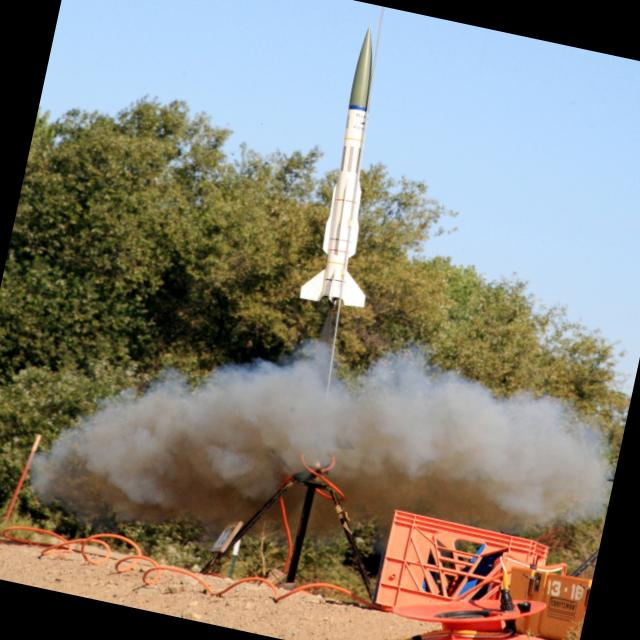rocket: (283, 21, 425, 392)
